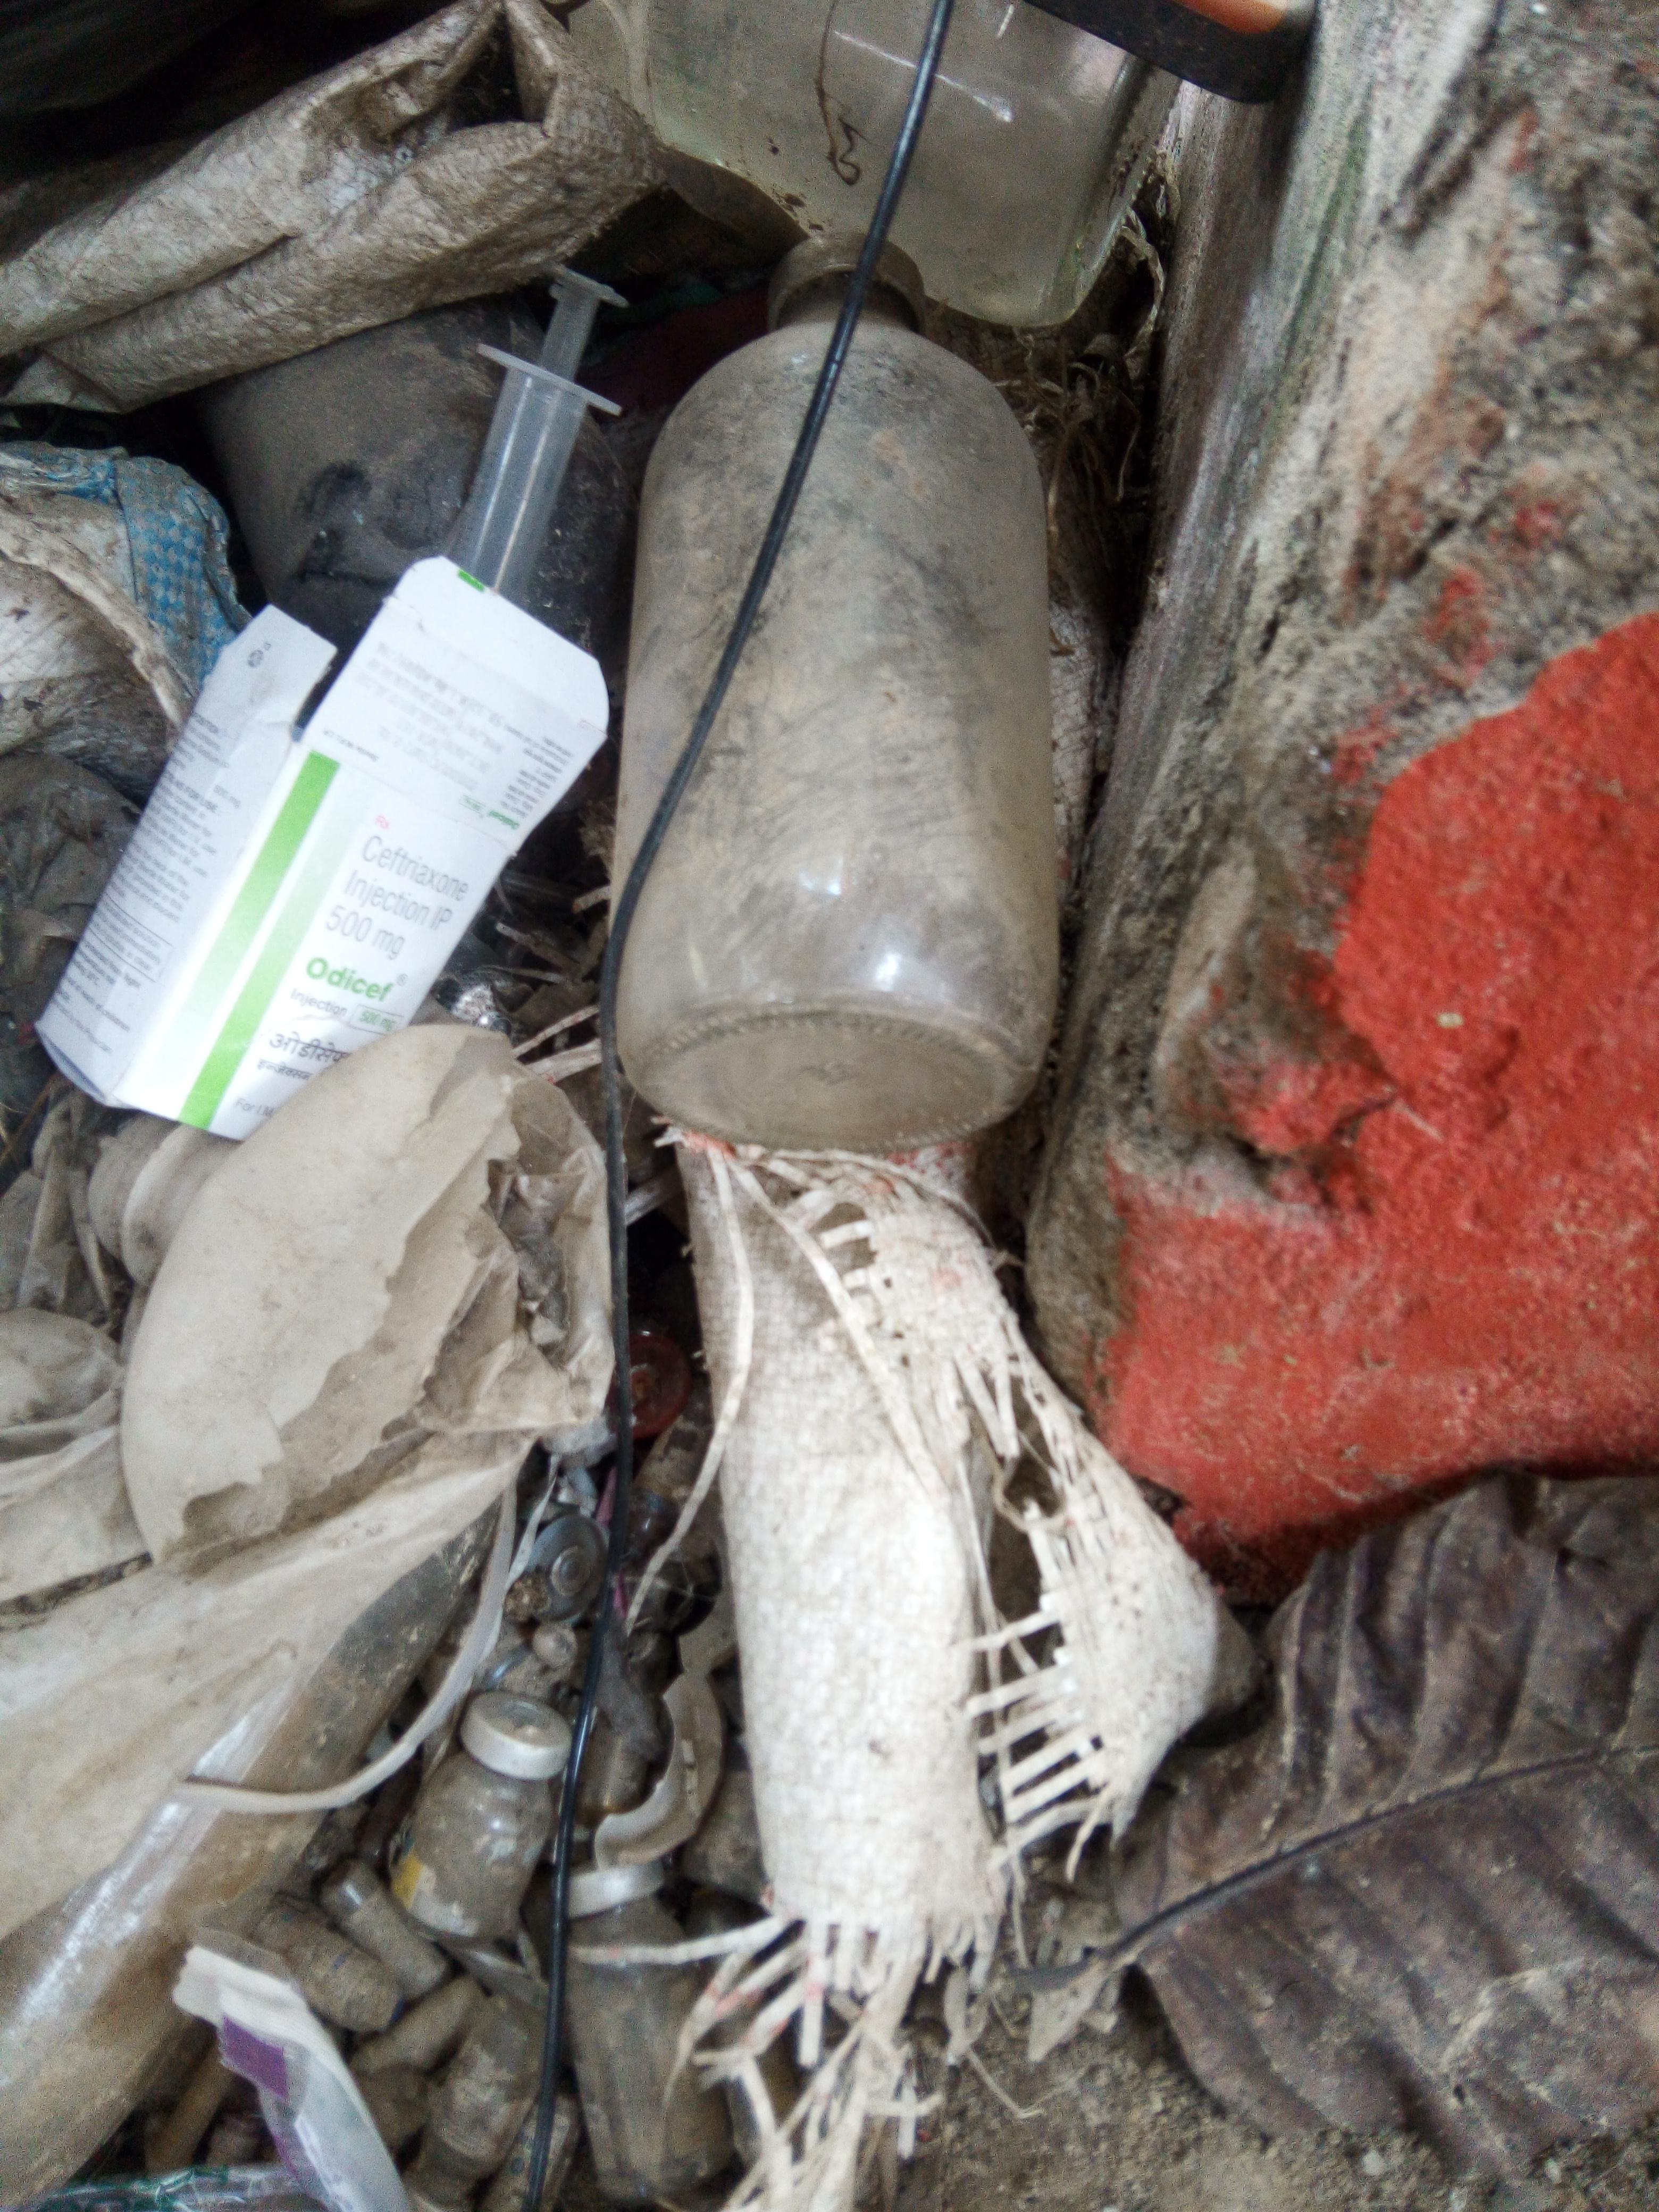trash: (0, 19, 1206, 2181)
